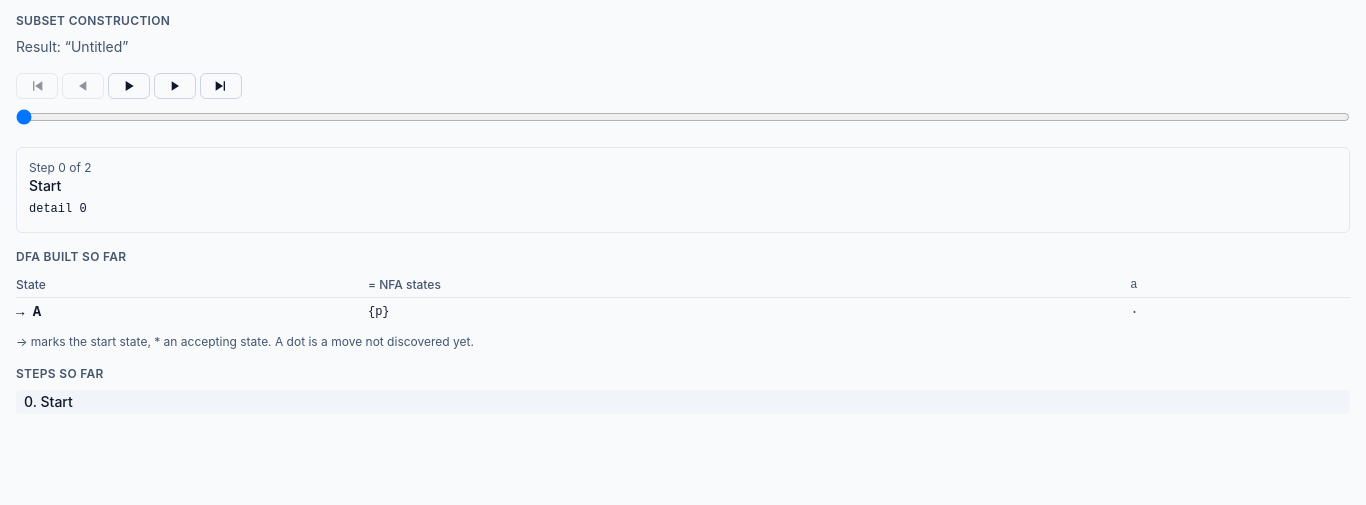
Test: StepsPanel › Reset and the slider work
The image size is (1366, 505).
Click the button named "Last step".
click(221, 86)  # box [200,73,242,99]
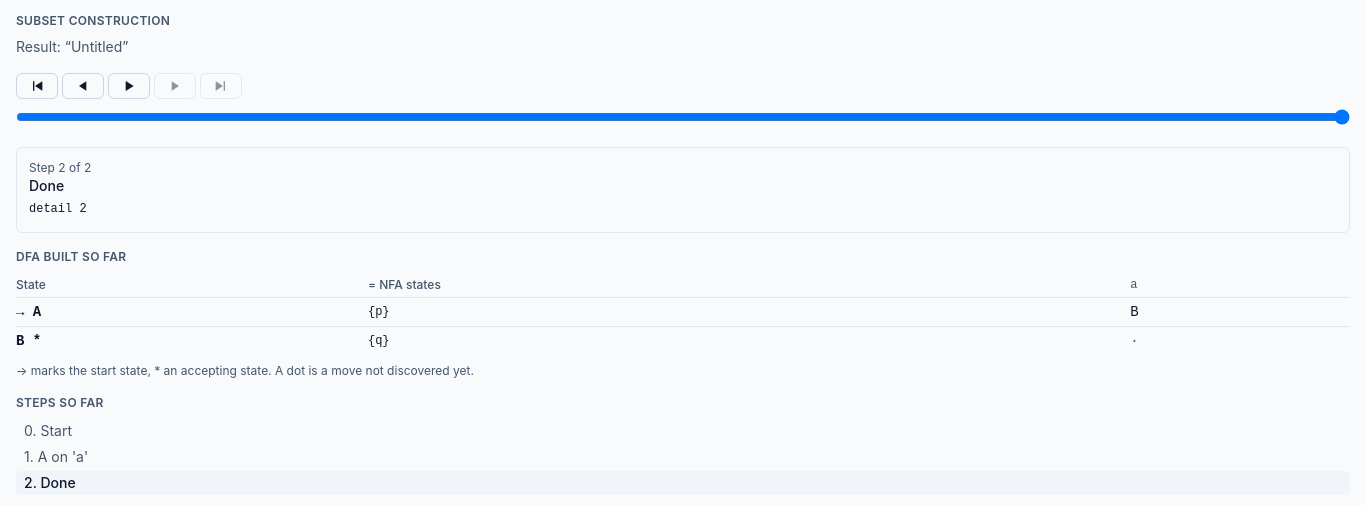
Click the button named "Reset".
click(37, 86)  # box [16,73,58,99]
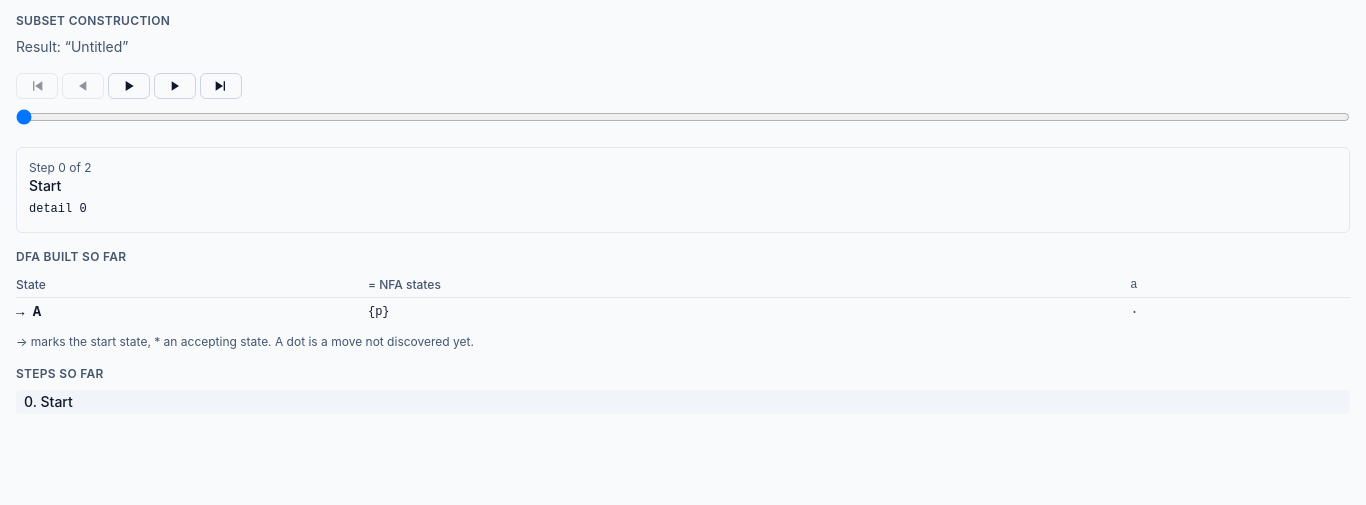
Check: the element with test id "step-card" shows "Step 0 of 2", box [16,147,1350,232]
